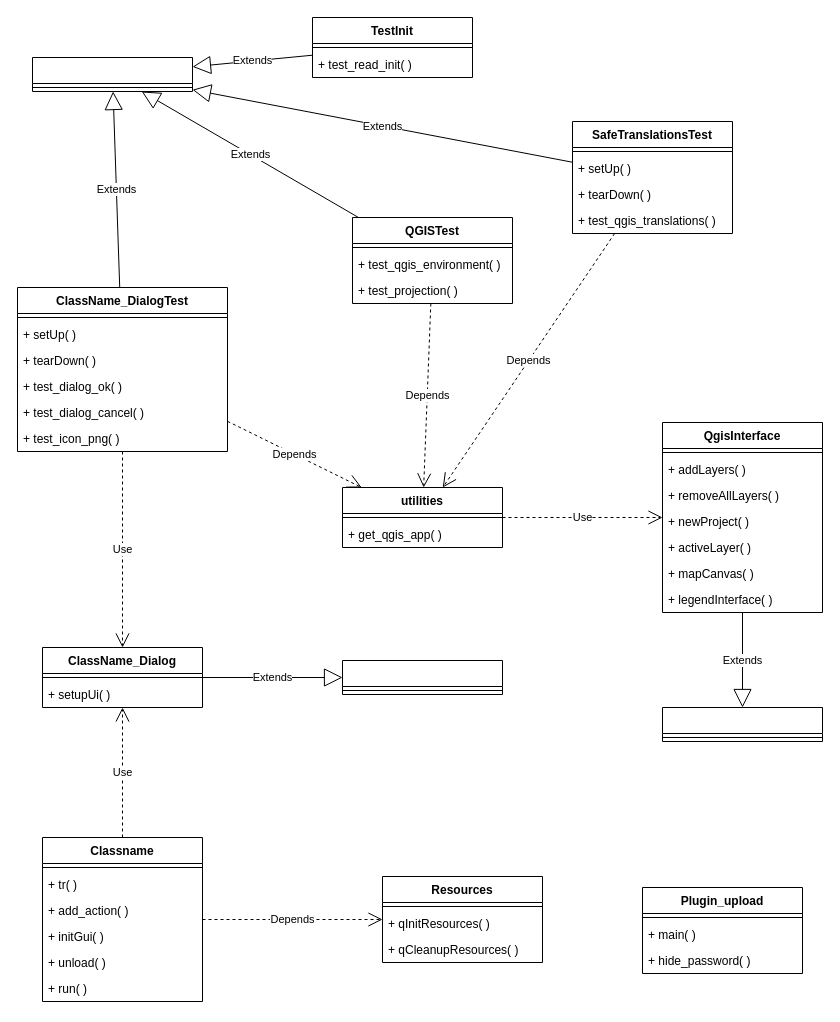
The diagram is 840 pixels wide and 1022 high, and some of its shapes have lost their labels. The centre of each missing label's shape, as x and y in pixels:
"QObject" belongs at [742,724].
"QtWidgets.QDialog" belongs at [422,677].
"unittest.TestCase" belongs at [112,74].
